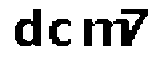7: (129, 6, 152, 47)
c: (47, 14, 74, 49)
d: (8, 3, 43, 51)
m: (80, 17, 131, 52)
